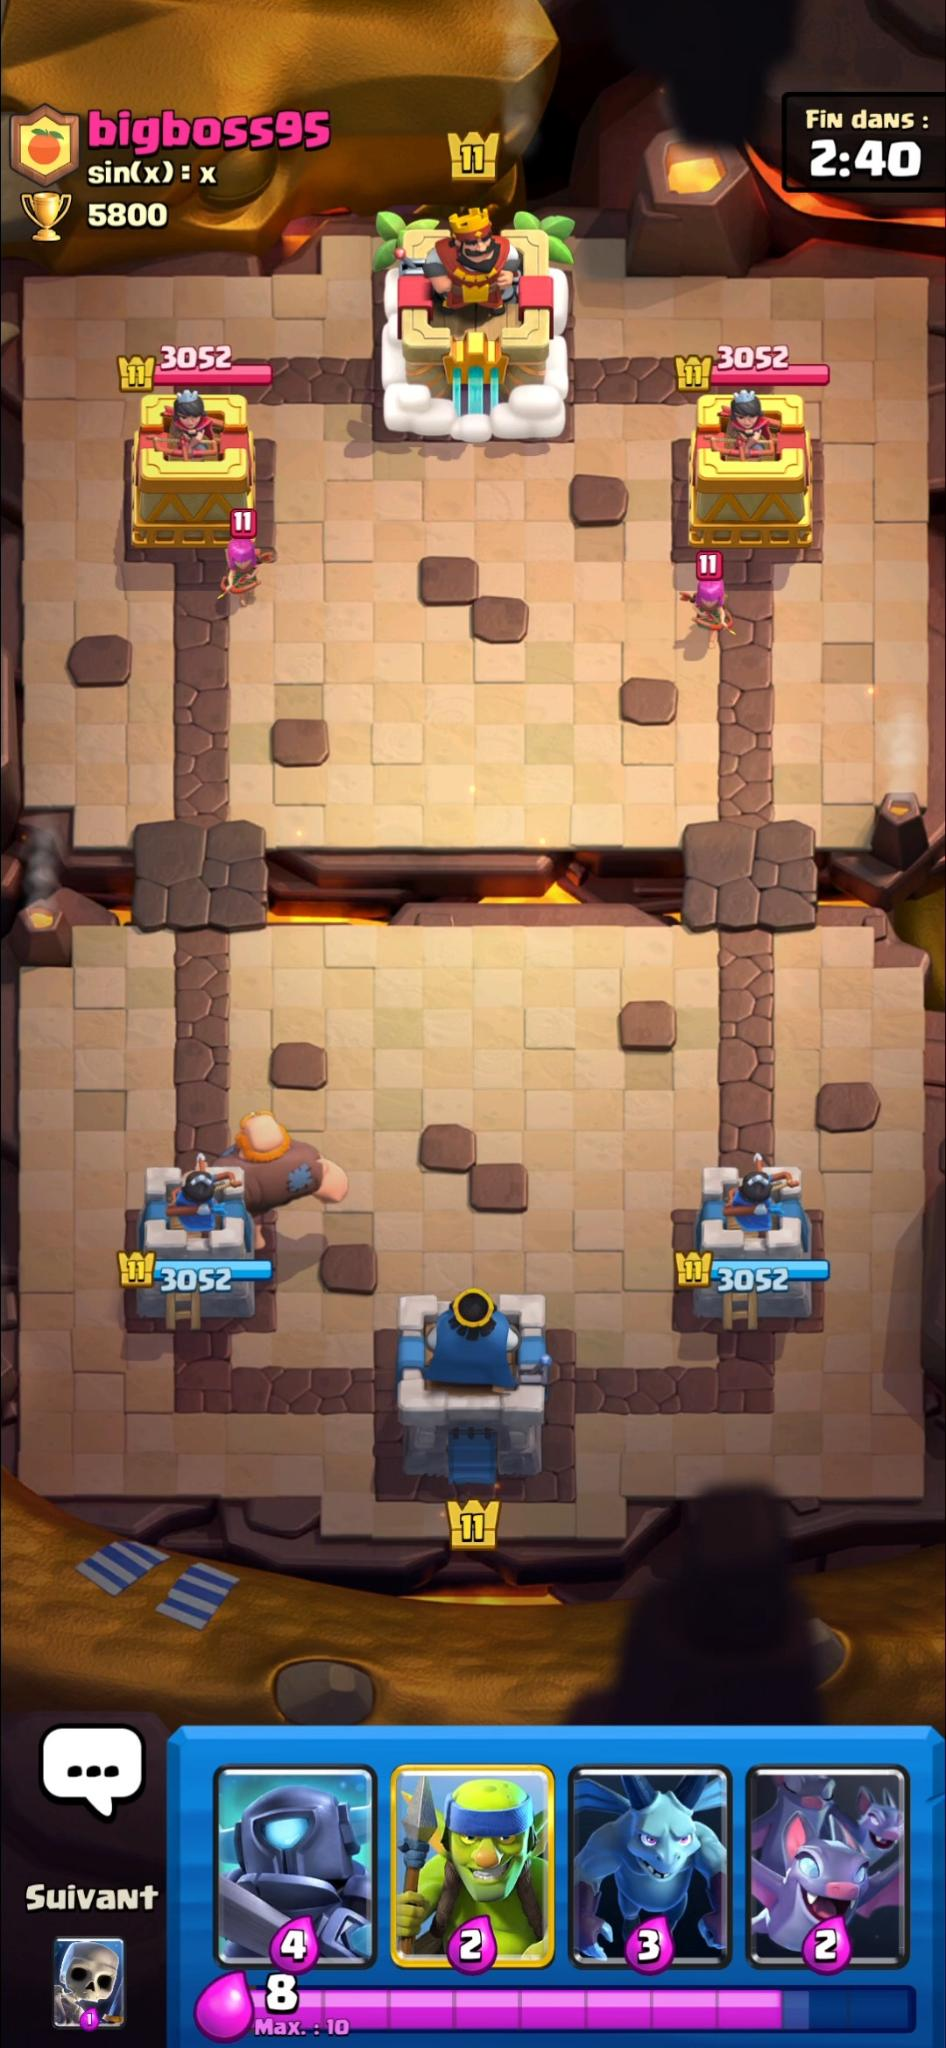archere: (678, 575, 746, 640), (214, 539, 278, 607)
geant: (214, 1112, 357, 1232)
